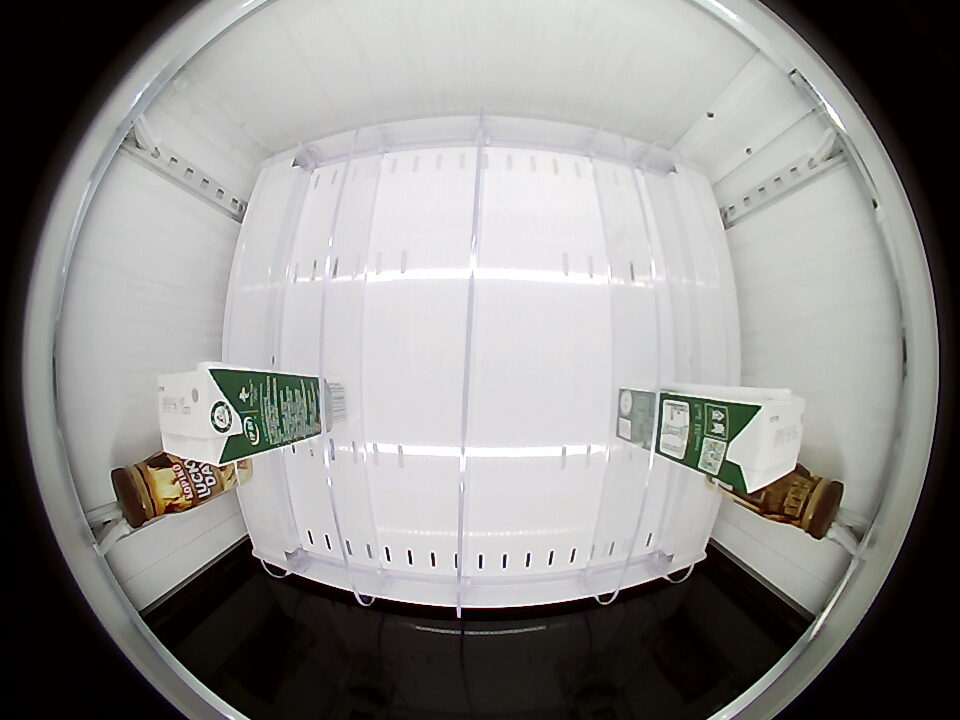jindian: (706, 391, 807, 495), (157, 366, 261, 466)
lujikafei: (111, 451, 184, 528), (769, 467, 844, 540)
